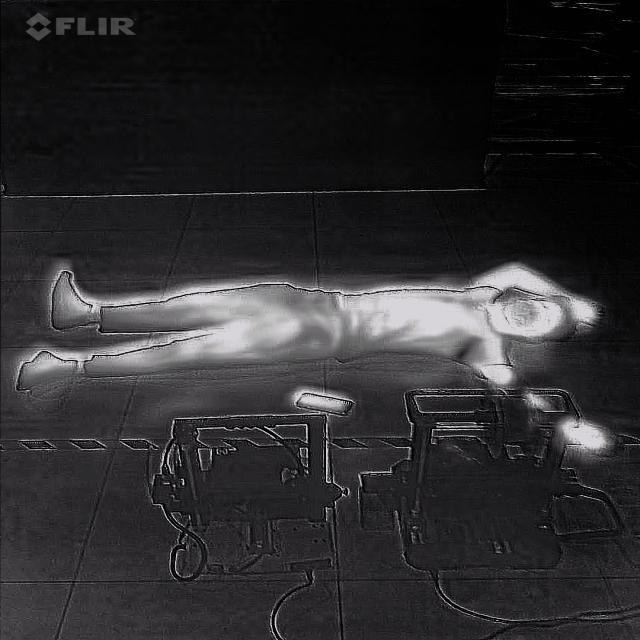Victim: (11, 257, 627, 459)
